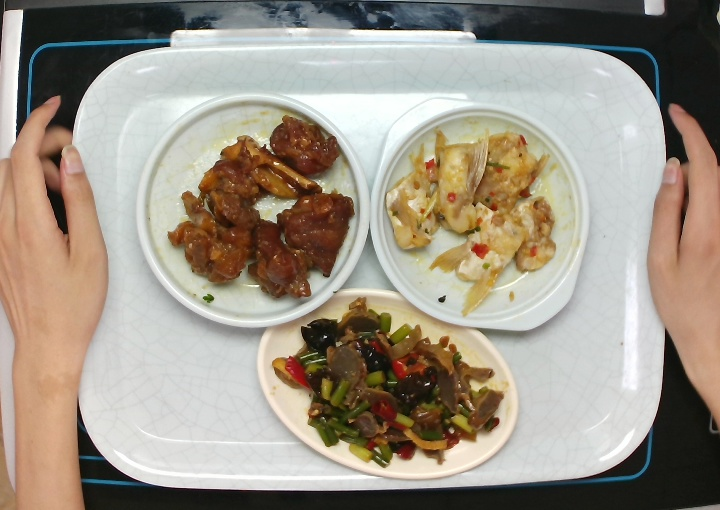JYsf-Shuang_Er_Pan: (366, 97, 592, 337)
JYsf-Tuo_Yuan_Wan: (257, 288, 523, 482)
JYsf-Xiao_Yuan_Pan: (132, 94, 374, 330)
